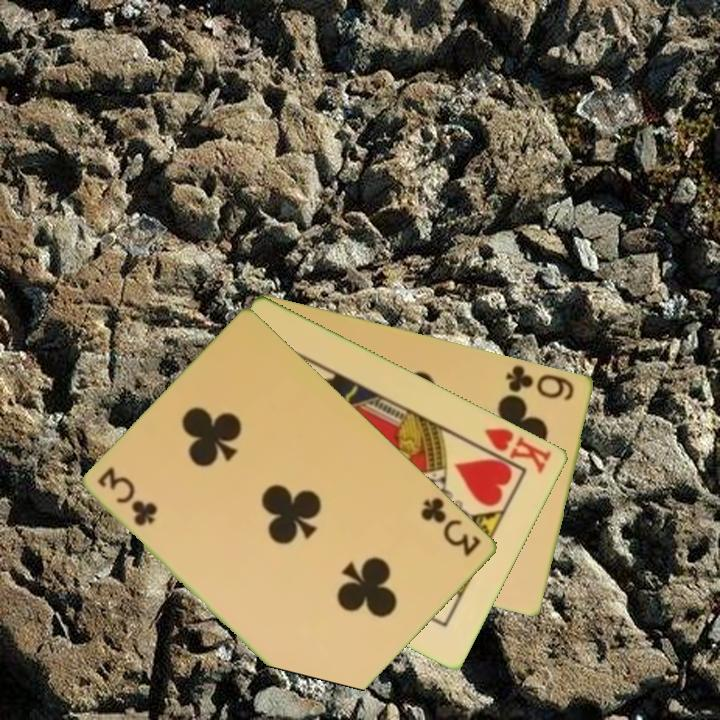3c: (417, 493, 485, 560), (95, 464, 160, 529)
6c: (502, 361, 578, 403)
Kh: (471, 424, 555, 477)
